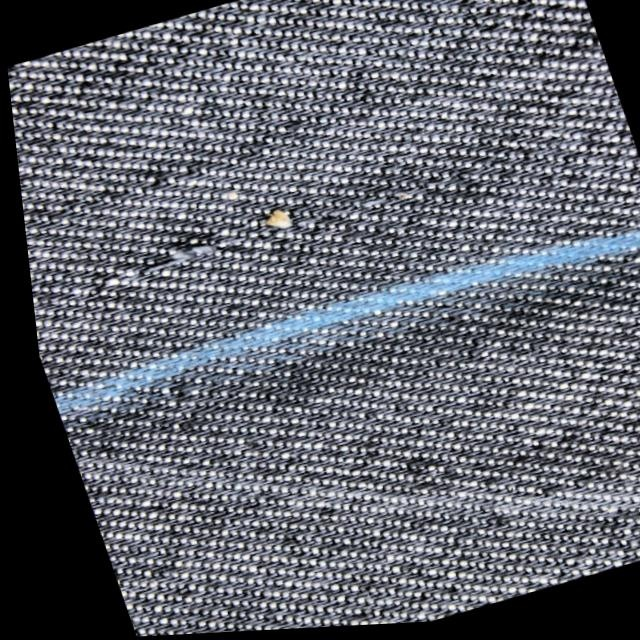Hole: (142, 182, 336, 290), (157, 187, 319, 278)
